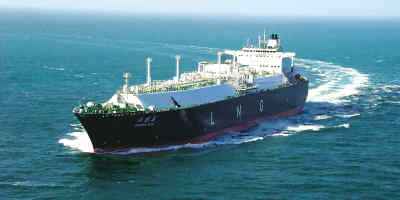Cargoship: (71, 29, 311, 157)
